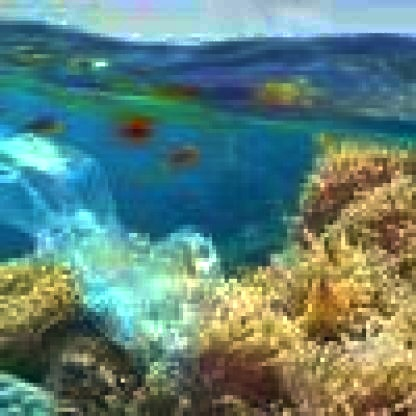pbag: (4, 125, 225, 370)
